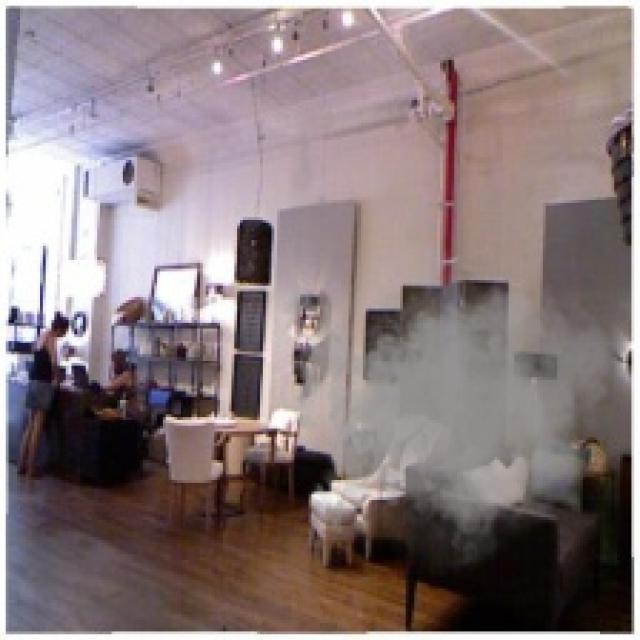Smoke: (272, 228, 617, 586)
